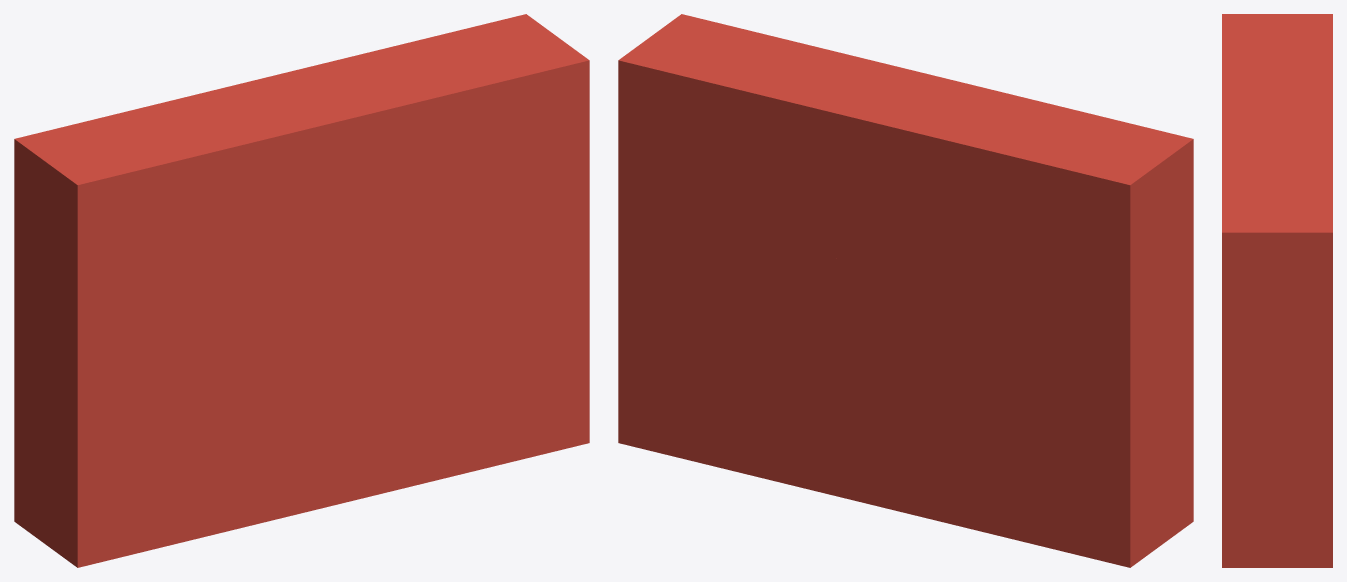
The model's file is Wall_Finish.fbx.
3 views of the same model, side by side, from view 1: azimuth 30°, elevation 25°; view 2: azimuth 150°, elevation 25°; view 3: azimuth 270°, elevation 25° (orthographic). The views are drawn at different scales.
Parts seen in each view (by area): view 1: Cube_fracturepart1, Cube_fracturepart33, Cube_fracturepart14, Cube_fracturepart46, Cube_fracturepart36, Cube_fracturepart12, Cube_fracturepart32, Cube_fracturepart35, Cube_fracturepart30, Cube_fracturepart42, Cube_fracturepart50, Cube_fracturepart24 (+24 smaller); view 2: Cube_fracturepart38, Cube_fracturepart1, Cube_fracturepart2, Cube_fracturepart40, Cube_fracturepart20, Cube_fracturepart49, Cube_fracturepart19, Cube_fracturepart28, Cube_fracturepart26, Cube_fracturepart10, Cube_fracturepart14, Cube_fracturepart41 (+23 smaller); view 3: Cube_fracturepart24, Cube_fracturepart38, Cube_fracturepart30, Cube_fracturepart14, Cube_fracturepart17, Cube_fracturepart41, Cube_fracturepart18, Cube_fracturepart20, Cube_fracturepart46, Cube_fracturepart32, Cube_fracturepart1, Cube_fracturepart2 (+3 smaller).
Boxes of the visible parts, x1,y1,x2,y2 form: Cube_fracturepart1: (14,133,156,324); Cube_fracturepart33: (374,173,535,359); Cube_fracturepart14: (97,91,280,224); Cube_fracturepart46: (347,73,494,184); Cube_fracturepart36: (134,409,240,544); Cube_fracturepart12: (14,281,171,399); Cube_fracturepart32: (462,358,589,464); Cube_fracturepart35: (25,425,141,567); Cube_fracturepart30: (495,83,589,210); Cube_fracturepart42: (156,212,307,325); Cube_fracturepart50: (306,177,399,322); Cube_fracturepart24: (487,241,589,372); Cube_fracturepart38: (618,138,762,351); Cube_fracturepart1: (1069,128,1193,333); Cube_fracturepart2: (945,148,1116,275); Cube_fracturepart40: (922,224,1080,358); Cube_fracturepart20: (638,37,791,179); Cube_fracturepart49: (743,285,895,416); Cube_fracturepart19: (688,327,822,445); Cube_fracturepart28: (867,277,975,431); Cube_fracturepart26: (966,433,1085,556); Cube_fracturepart10: (822,163,935,280); Cube_fracturepart14: (934,89,1148,174); Cube_fracturepart41: (846,68,964,180); Cube_fracturepart24: (1222,391,1332,527); Cube_fracturepart38: (1222,302,1332,439); Cube_fracturepart30: (1222,252,1332,363); Cube_fracturepart14: (1222,33,1332,102); Cube_fracturepart17: (1222,192,1332,252); Cube_fracturepart41: (1222,97,1332,144); Cube_fracturepart18: (1242,522,1332,567); Cube_fracturepart20: (1222,173,1332,222); Cube_fracturepart46: (1222,138,1295,187); Cube_fracturepart32: (1222,506,1277,567); Cube_fracturepart1: (1222,14,1332,34); Cube_fracturepart2: (1273,24,1332,73).
Bounding box in the file's own units: 560 × 400 × 120.
